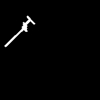double_crochet: (5, 16, 34, 46)
